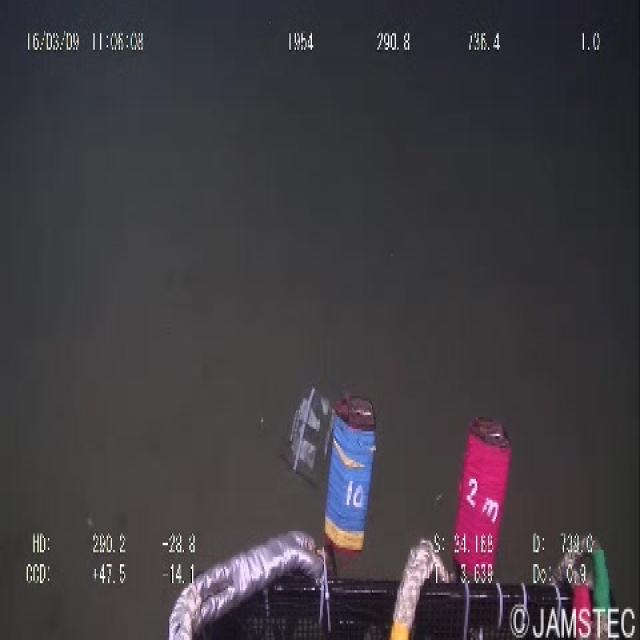plastic: (282, 379, 342, 479)
